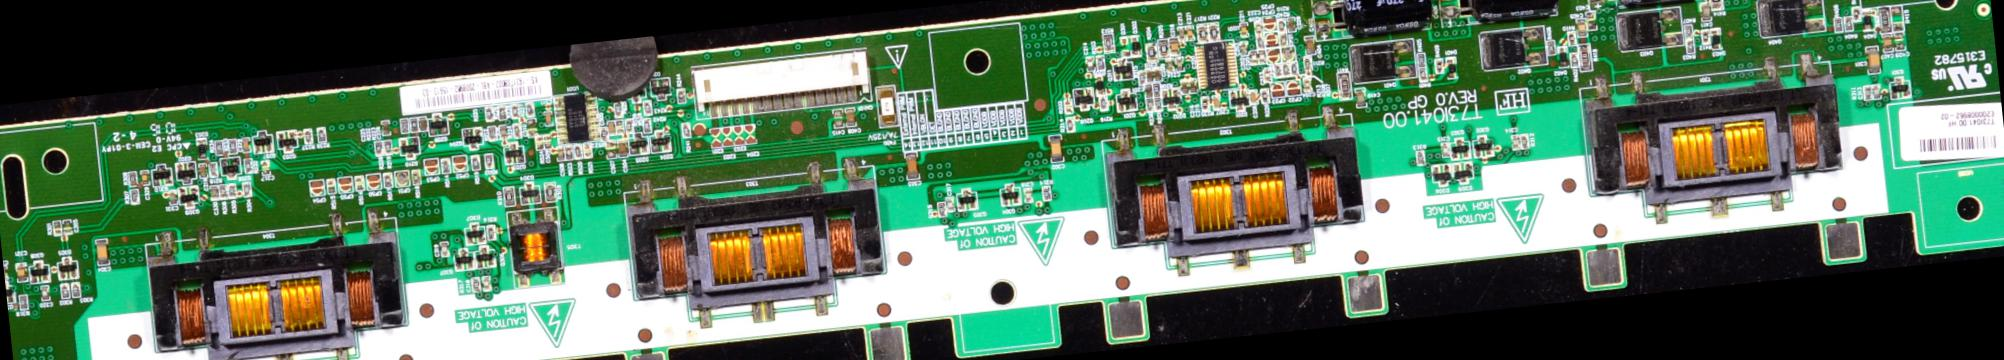Capacitor Jumper: (904, 151, 923, 185), (95, 235, 111, 268), (1048, 133, 1066, 163), (1865, 43, 1883, 73), (426, 154, 442, 184), (394, 167, 412, 194), (309, 176, 327, 203), (337, 174, 357, 198), (366, 170, 383, 195), (452, 152, 468, 177), (1284, 77, 1304, 97), (829, 107, 845, 131), (261, 158, 276, 181), (1575, 18, 1590, 37), (1883, 32, 1894, 57), (14, 262, 28, 282), (437, 240, 451, 260), (377, 117, 392, 135), (846, 106, 858, 129), (1439, 138, 1451, 161), (1701, 0, 1714, 20), (1270, 80, 1286, 97), (1355, 88, 1369, 106), (1168, 34, 1180, 56), (1084, 54, 1095, 75), (1305, 32, 1316, 54), (1895, 29, 1907, 51), (1587, 8, 1598, 31), (1210, 93, 1222, 114), (1238, 20, 1252, 37), (1189, 74, 1200, 93), (616, 138, 628, 157), (1022, 186, 1034, 206), (946, 195, 957, 214), (1264, 31, 1278, 46), (1268, 47, 1282, 63), (542, 131, 552, 152), (1238, 38, 1250, 56), (606, 117, 617, 135), (553, 143, 565, 161), (607, 137, 616, 160), (1263, 14, 1277, 28), (1260, 66, 1273, 82), (167, 186, 178, 206), (1512, 133, 1522, 152), (483, 273, 493, 292), (1247, 49, 1259, 65), (1178, 77, 1190, 93), (1304, 77, 1314, 94), (1249, 87, 1258, 107), (40, 283, 50, 301), (1287, 14, 1297, 32), (1173, 56, 1185, 71), (141, 167, 150, 186), (199, 161, 208, 180), (1177, 23, 1186, 42), (1186, 23, 1195, 42), (418, 115, 428, 131), (1164, 57, 1175, 74), (210, 183, 219, 200), (1874, 83, 1883, 101), (1254, 20, 1264, 34), (242, 137, 250, 152), (1259, 49, 1267, 64), (4, 264, 10, 282), (1146, 66, 1153, 82), (1144, 84, 1152, 97), (1154, 65, 1160, 78)
Connector: (689, 43, 873, 117)
IC: (552, 80, 602, 142), (1192, 40, 1240, 91)
Resistor Jumper: (1336, 65, 1353, 100), (1039, 180, 1056, 206), (1095, 84, 1111, 111), (1578, 42, 1594, 69), (1099, 31, 1117, 54), (502, 183, 518, 207), (1699, 26, 1713, 50), (542, 180, 556, 203), (484, 149, 497, 174), (470, 152, 483, 176), (1892, 5, 1906, 27), (1094, 51, 1107, 74), (1415, 146, 1428, 167), (1158, 37, 1169, 60), (1434, 55, 1445, 78), (1521, 131, 1534, 152), (1196, 22, 1209, 42), (1146, 40, 1158, 61), (470, 274, 482, 296), (1209, 19, 1221, 41), (1566, 27, 1578, 46), (128, 186, 141, 206), (1546, 37, 1558, 57), (936, 199, 947, 220), (484, 123, 497, 140), (1415, 49, 1428, 66), (63, 218, 75, 236), (59, 282, 72, 300), (441, 154, 451, 176), (383, 170, 394, 191), (303, 126, 314, 146), (680, 121, 691, 140), (1419, 66, 1430, 86), (486, 221, 497, 240), (396, 117, 409, 134), (611, 101, 624, 117), (413, 166, 423, 186), (524, 101, 536, 119), (317, 124, 328, 142), (213, 137, 225, 154), (127, 169, 138, 186), (1304, 56, 1315, 74), (242, 180, 253, 198), (1200, 94, 1212, 112), (676, 84, 686, 103), (1686, 37, 1696, 56), (584, 138, 593, 160), (1851, 4, 1862, 20), (51, 220, 63, 236), (18, 295, 29, 311), (373, 139, 383, 157), (565, 140, 574, 161), (1833, 14, 1843, 32), (327, 176, 336, 197), (357, 175, 366, 195), (1261, 87, 1270, 107), (72, 280, 82, 297), (1277, 14, 1287, 32), (498, 123, 507, 142), (383, 138, 392, 157), (229, 180, 238, 199), (1569, 50, 1578, 69), (227, 138, 238, 154), (624, 115, 634, 131), (1255, 34, 1267, 49), (409, 114, 418, 131), (219, 181, 227, 199), (483, 106, 493, 121), (643, 117, 653, 133), (1863, 84, 1874, 100), (513, 121, 521, 138), (1684, 20, 1693, 37), (1846, 15, 1854, 32), (575, 139, 583, 158), (1279, 32, 1290, 46), (1272, 64, 1282, 78), (644, 100, 653, 115), (1710, 0, 1725, 9), (1137, 69, 1146, 84), (510, 102, 519, 117), (536, 133, 543, 149), (1283, 61, 1291, 77), (1291, 63, 1299, 77), (1153, 83, 1160, 97), (1146, 97, 1154, 111), (1154, 97, 1162, 111)
Transistor: (250, 126, 277, 160), (276, 126, 302, 161), (1429, 162, 1456, 191), (505, 139, 529, 171), (178, 185, 203, 214), (399, 135, 423, 166), (55, 253, 81, 281), (648, 74, 674, 102), (151, 160, 175, 188), (997, 180, 1020, 209), (174, 160, 199, 185), (1111, 55, 1135, 82), (1072, 86, 1097, 112), (956, 185, 980, 212), (651, 126, 674, 154), (628, 129, 651, 157), (428, 111, 450, 140), (1117, 86, 1139, 115), (220, 154, 244, 180), (463, 218, 486, 245), (1889, 73, 1912, 100), (452, 245, 475, 272), (1229, 88, 1250, 117), (460, 125, 484, 149), (28, 258, 52, 282), (518, 179, 541, 204), (1456, 161, 1476, 189), (1163, 88, 1183, 115), (477, 241, 497, 268), (1474, 135, 1495, 160), (1451, 138, 1471, 158), (5, 281, 18, 309), (194, 137, 210, 160)
